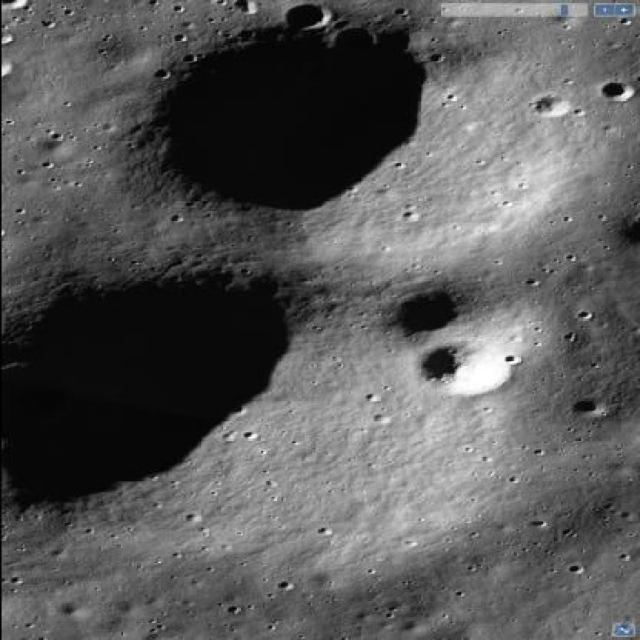crater: (1, 269, 312, 520), (146, 28, 429, 212), (416, 345, 510, 397), (397, 294, 471, 340), (282, 5, 331, 32), (532, 95, 570, 117), (598, 83, 634, 103)
